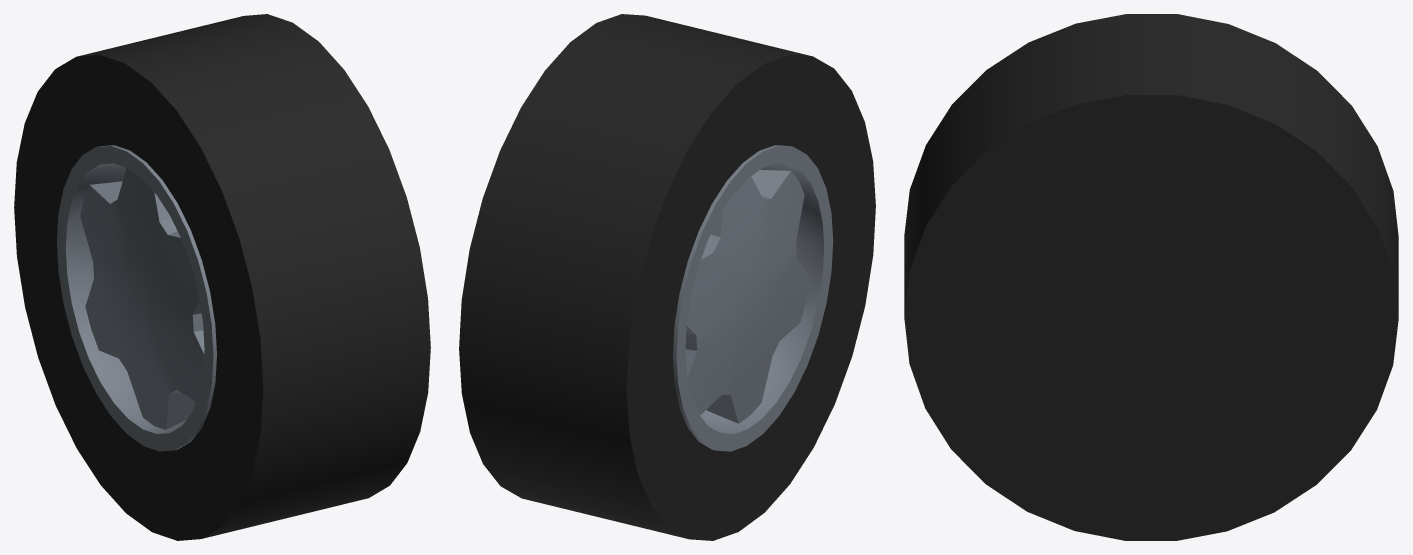
File: wheel_fr.glb
The picture shows the model from 3 angles, left to right: view 1: azimuth 30°, elevation 25°; view 2: azimuth 150°, elevation 25°; view 3: azimuth 270°, elevation 25°; orthographic projection.
Visible parts, largest first — view 1: wheel fr.001; view 2: wheel fr.001; view 3: wheel fr.001.
Part boxes in pixels (left/top/right/bottom): wheel fr.001: left=14, top=14, right=430, bottom=540; wheel fr.001: left=459, top=14, right=875, bottom=540; wheel fr.001: left=904, top=14, right=1398, bottom=540.
Size of the model in its own units: 0.2575 by 0.6464 by 0.6498.
1 material, 1 textured.
